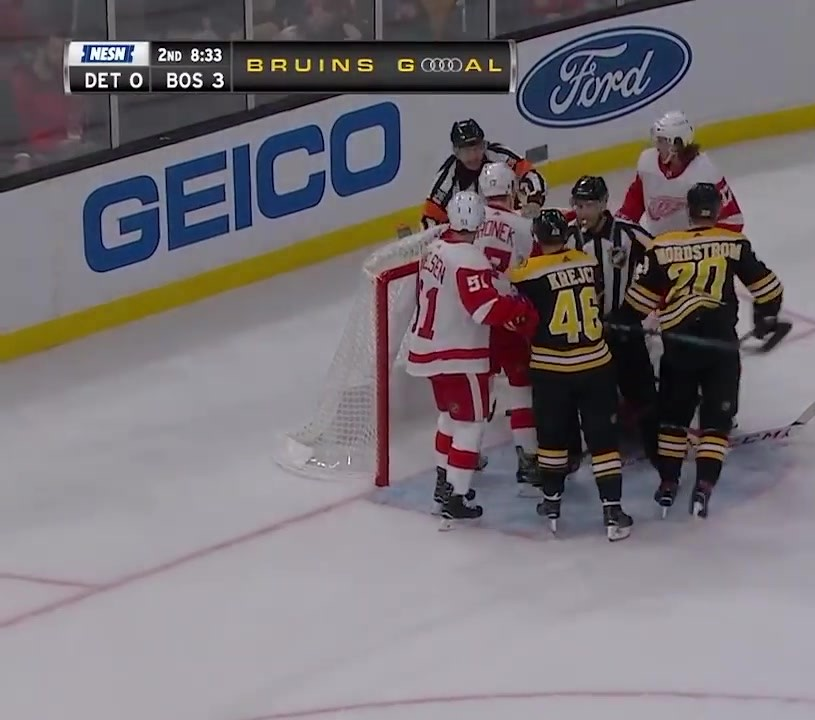Geico: (69, 96, 409, 296)
